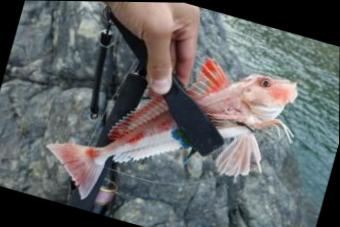fish: (46, 58, 298, 199)
